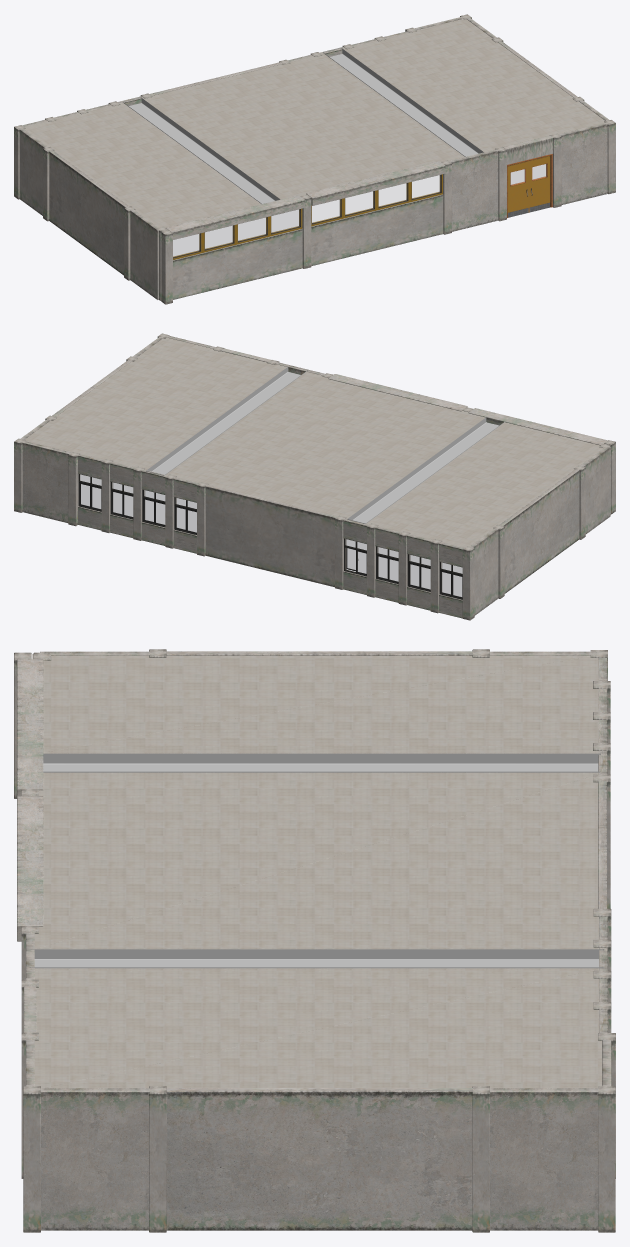
The model's file is env_room99.glb.
3 renders of one model, top to bottom at view 1: azimuth 30°, elevation 25°; view 2: azimuth 150°, elevation 25°; view 3: azimuth 270°, elevation 25°, orthographic. The views are drawn at different scales.
Visible parts, largest first — view 1: roof_2_ceiling_0; view 2: roof_2_ceiling_0; view 3: roof_2_ceiling_0.
Part boxes in pixels (x1,y1,x2,y2): roof_2_ceiling_0: (14, 14, 615, 304); roof_2_ceiling_0: (14, 333, 615, 620); roof_2_ceiling_0: (14, 649, 615, 1232).
Size of the model in its own units: 23.95 by 3.51 by 13.72.
14 materials, 10 textured.
